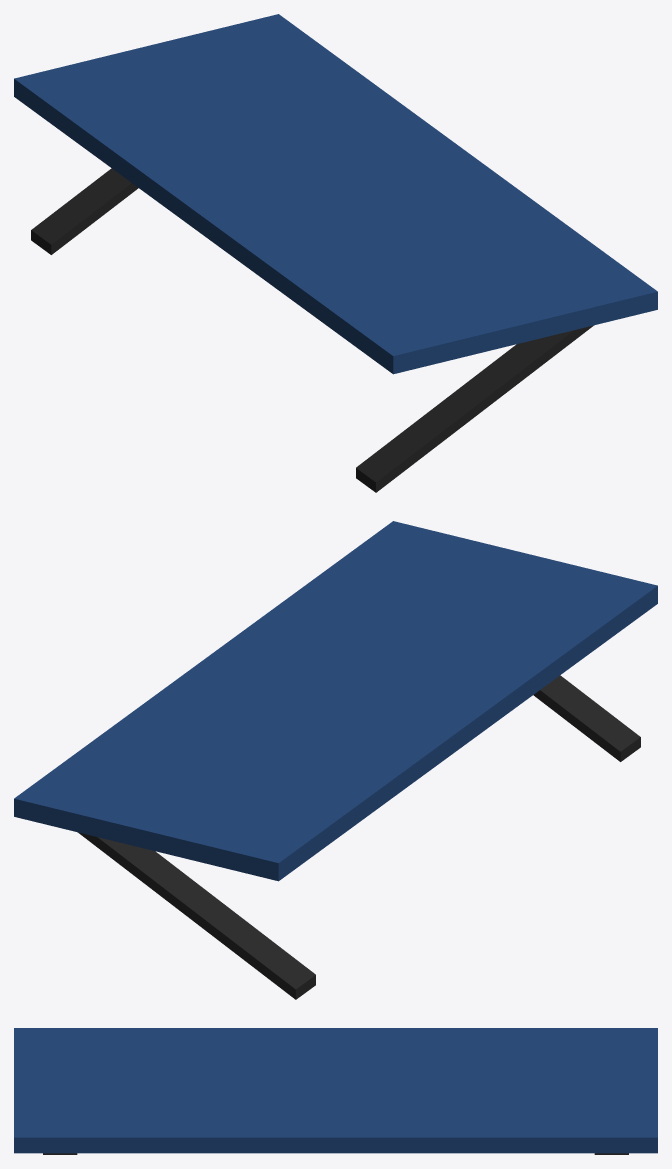
The model's file is Prateleira.fbx.
3 views of the same model, one above another, from view 1: azimuth 30°, elevation 25°; view 2: azimuth 150°, elevation 25°; view 3: azimuth 270°, elevation 25° (orthographic). The views are drawn at different scales.
Parts seen in each view (by area): view 1: Cubo.011; view 2: Cubo.011; view 3: Cubo.011.
Boxes of the visible parts, x1,y1,x2,y2 form: Cubo.011: (14,14,657,492); Cubo.011: (14,521,657,999); Cubo.011: (14,1028,657,1154).
Size of the model in its own units: 80.6 by 43.44 by 200.
